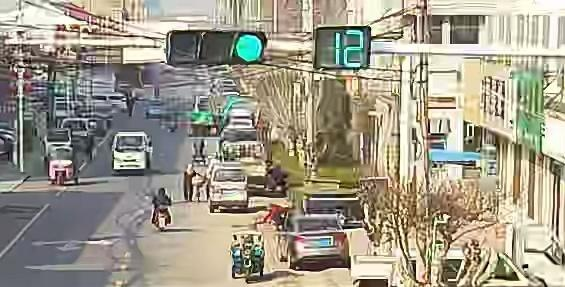green: (234, 32, 265, 63)
greentime: (332, 28, 367, 69)
